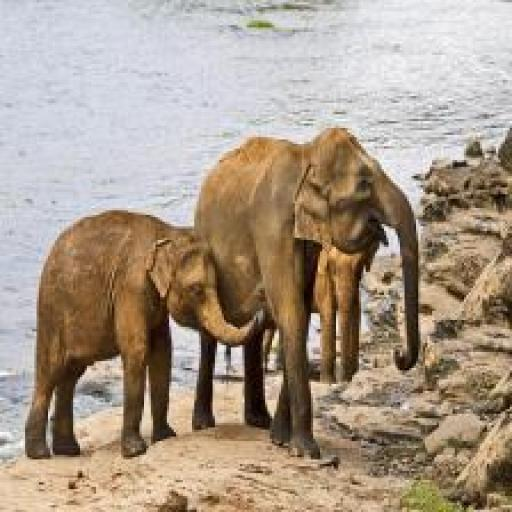Elephant: (192, 126, 418, 462), (23, 210, 266, 460)
